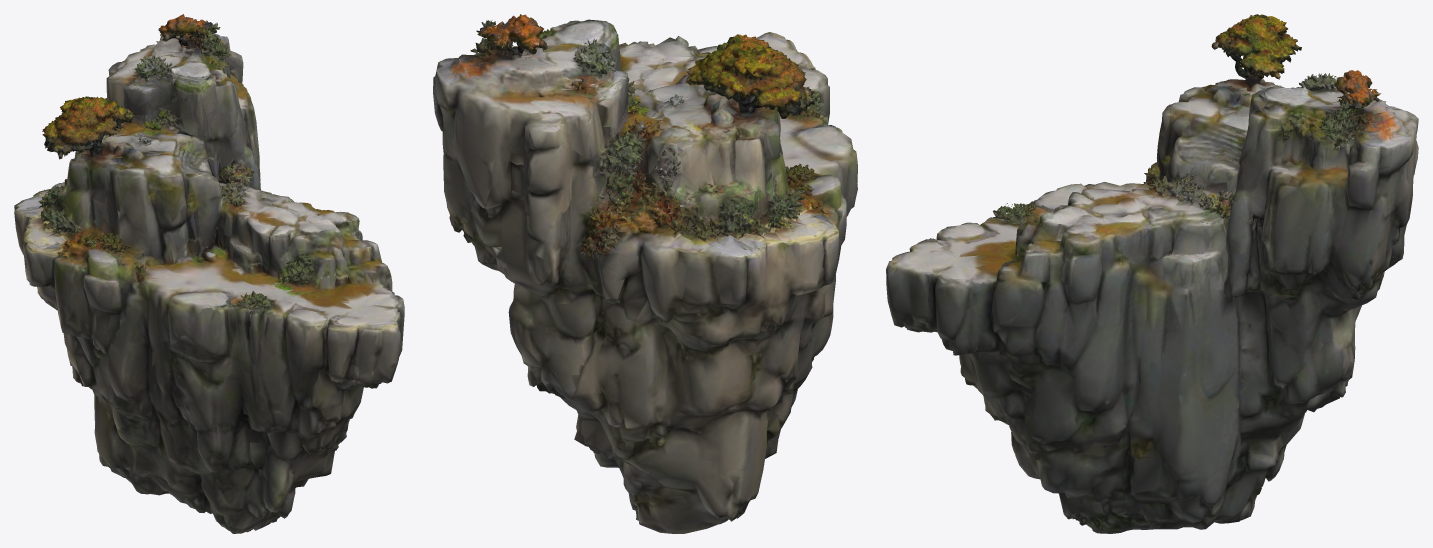
The model's file is Skyward_Ascent_Flying.glb.
The picture shows the model from 3 angles, left to right: view 1: azimuth 30°, elevation 25°; view 2: azimuth 150°, elevation 25°; view 3: azimuth 270°, elevation 25°; orthographic projection. The views are drawn at different scales.
Parts seen in each view (by area): view 1: Skyward_Ascent_Flying; view 2: Skyward_Ascent_Flying; view 3: Skyward_Ascent_Flying.
Part boxes in pixels (x1,y1,x2,y2): Skyward_Ascent_Flying: (14,14,404,533); Skyward_Ascent_Flying: (433,14,857,533); Skyward_Ascent_Flying: (886,14,1418,533).
Bounding box in the file's own units: 1.21 × 1.89 × 1.88.
1 material, 1 textured.
